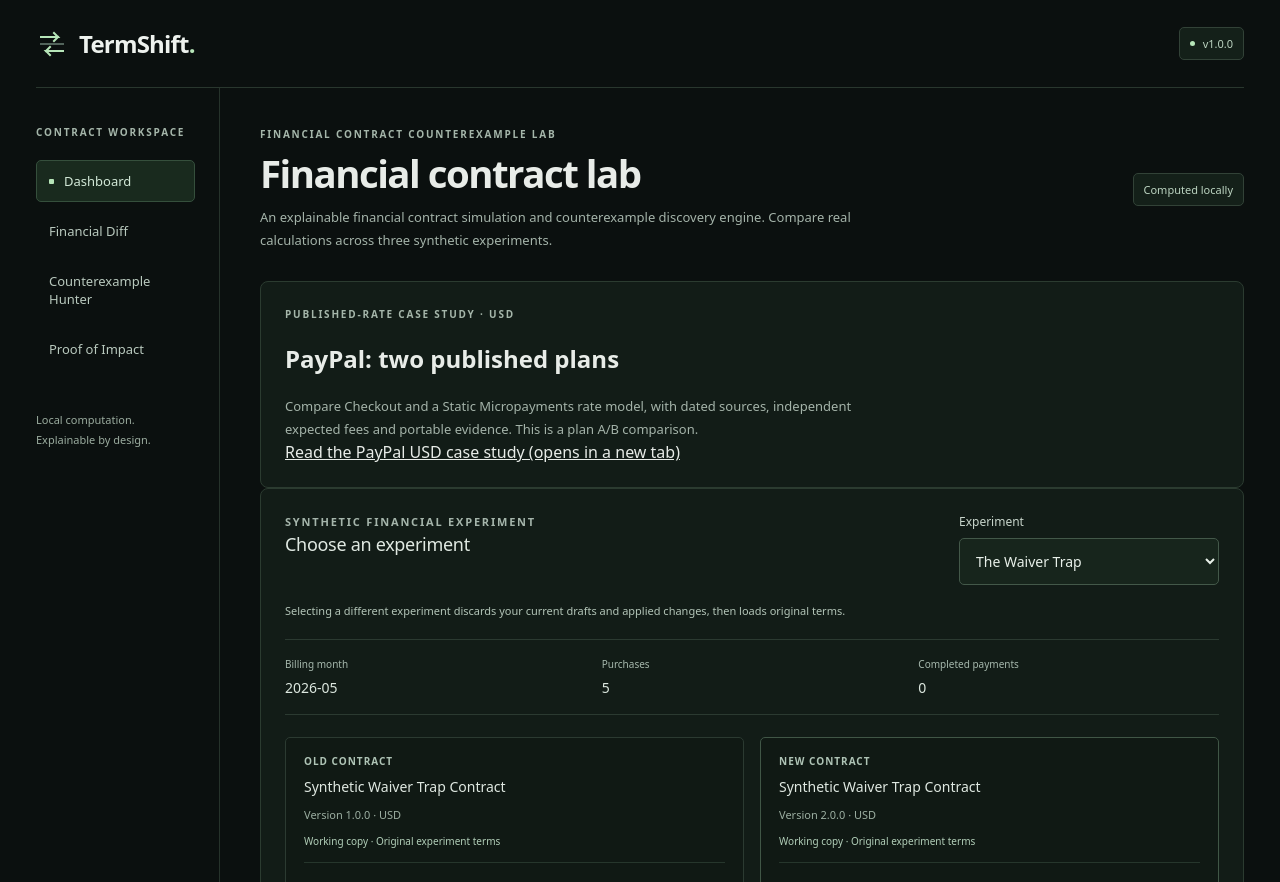
Test: Proof of Impact navigation and explicit generation › remains empty after a real no-witness search
Click the button "Counterexample Hunter": [116, 290] box x1=36 y1=260 x2=195 y2=320
(page scrolled)
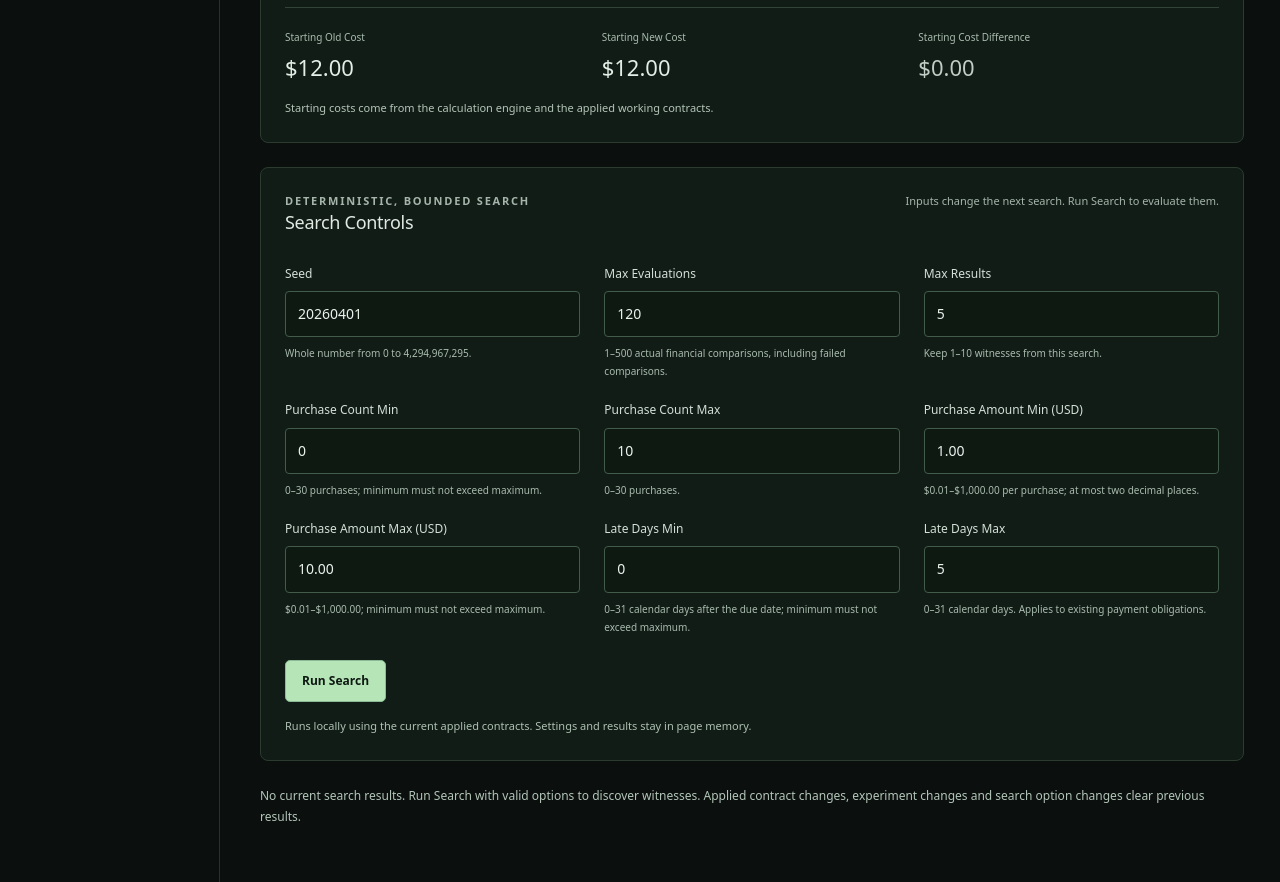
Replace the text in the field labelled "Purchase Count Max" with "4": [752, 451] box x1=604 y1=428 x2=900 y2=474
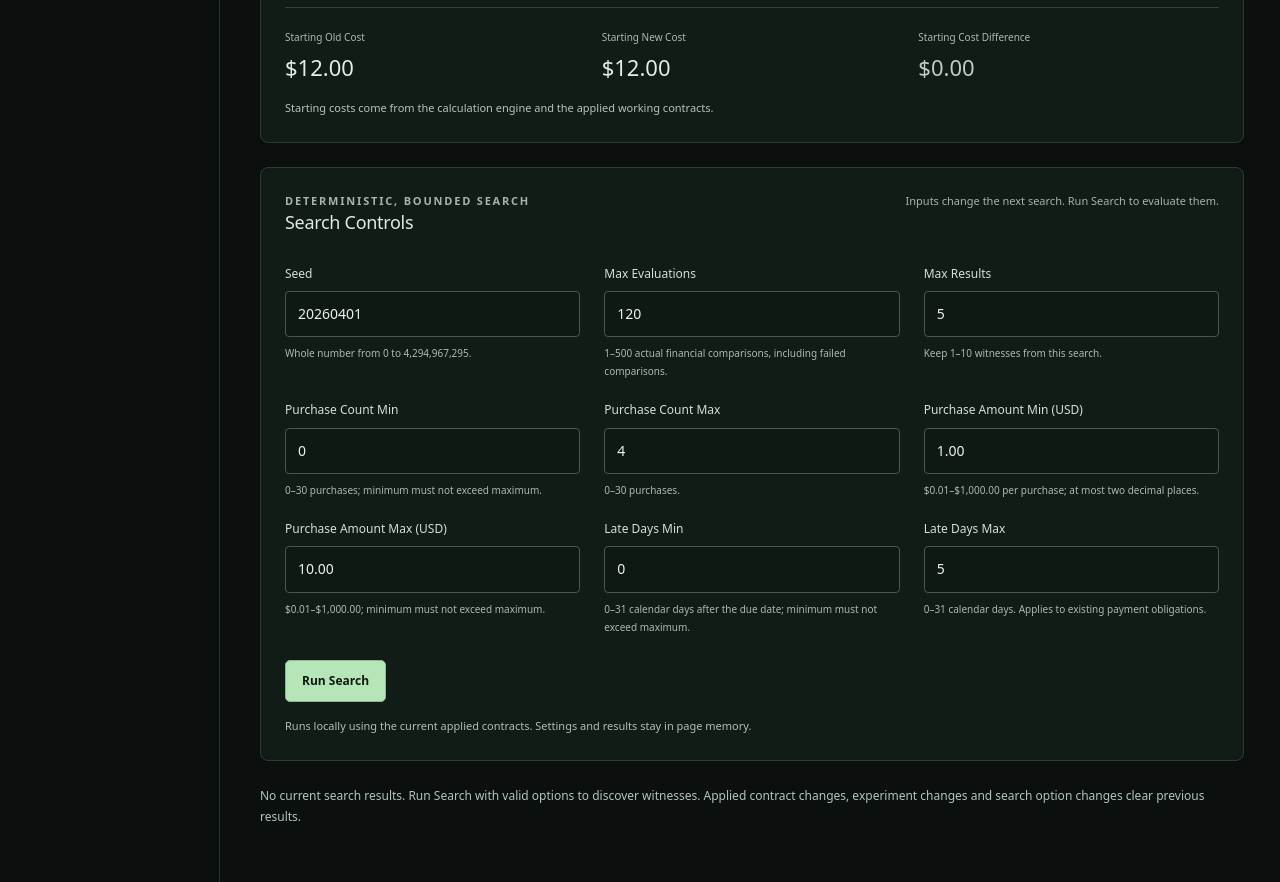
Click the button "Run Search": [336, 681] box x1=285 y1=660 x2=386 y2=702
(page scrolled)
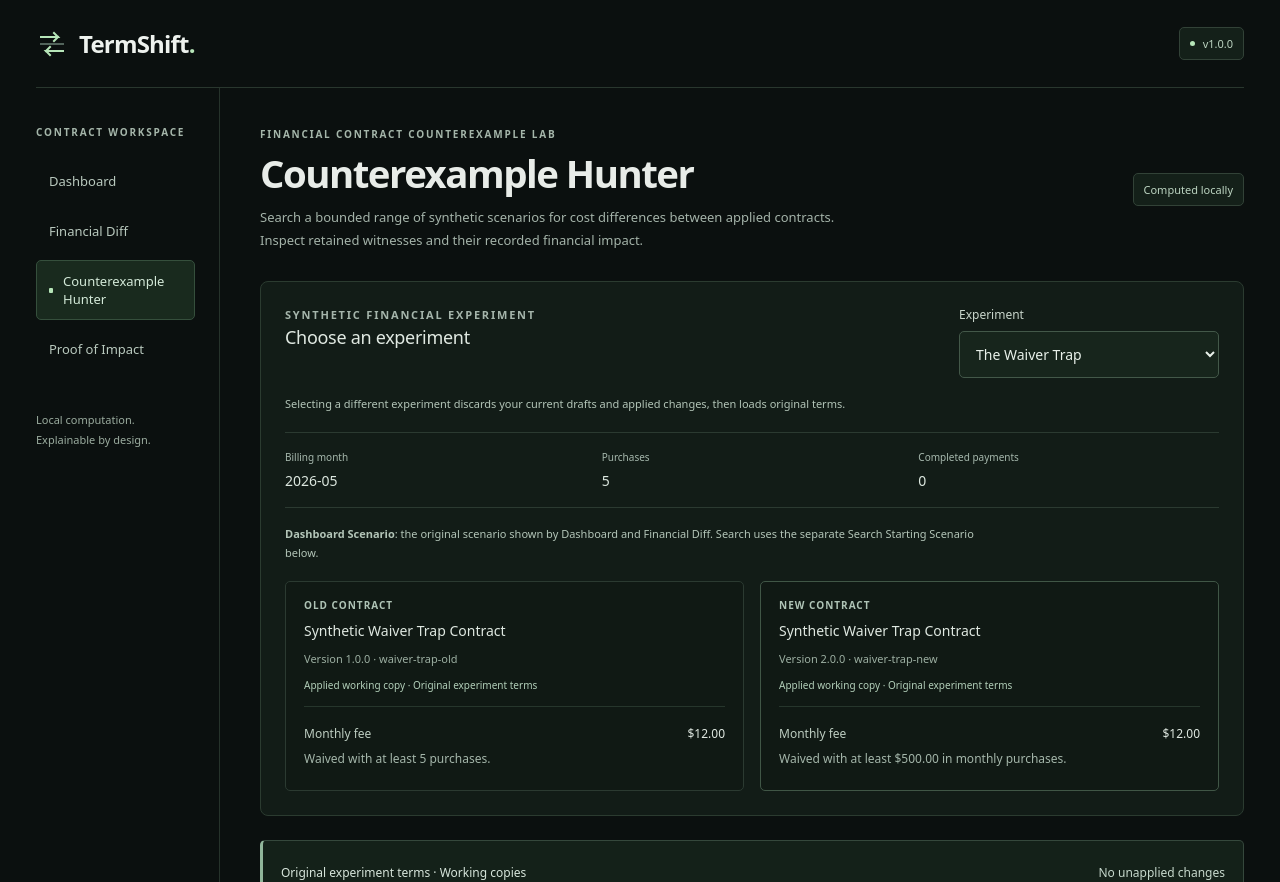
Click the button "Proof of Impact": [116, 349] box x1=36 y1=328 x2=195 y2=370
(page scrolled)
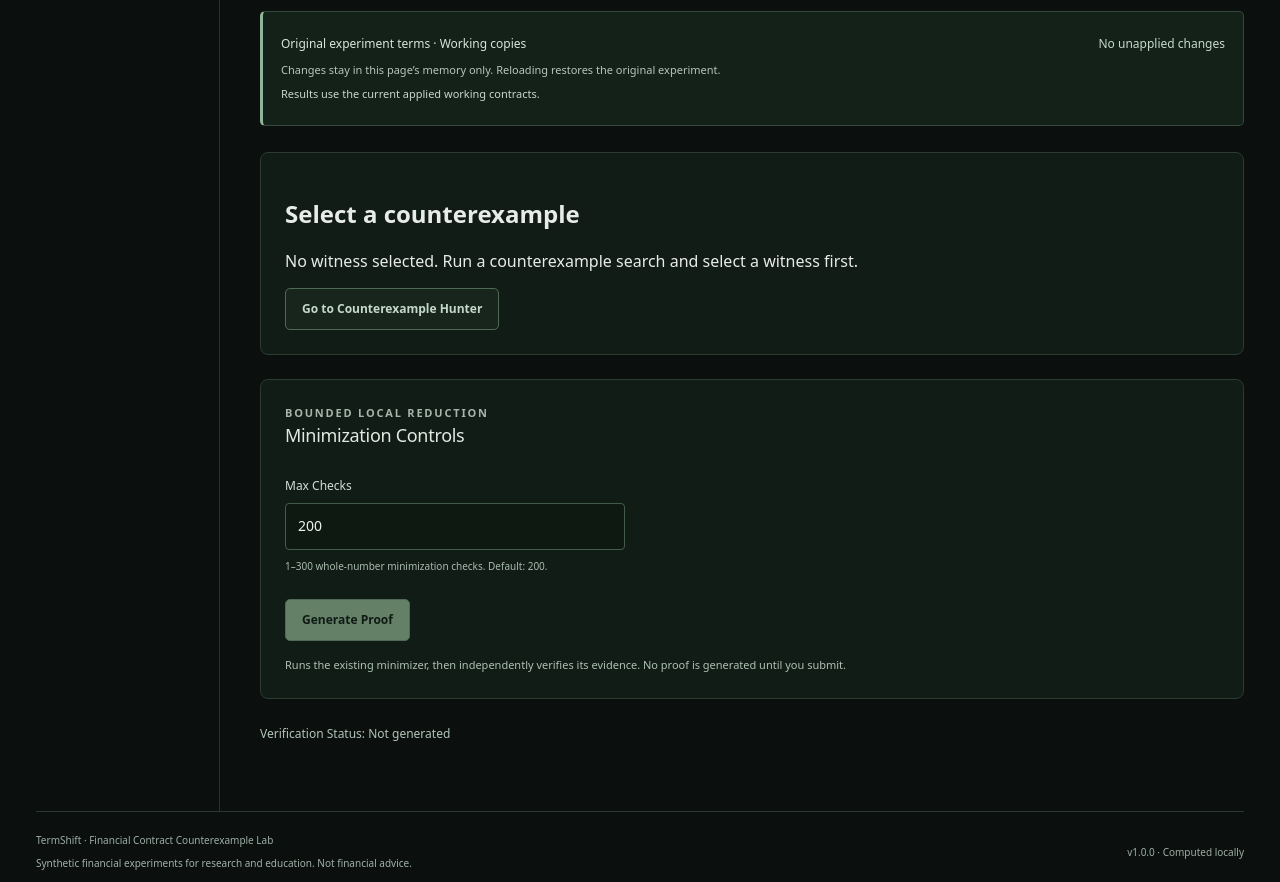
Expected: the button "Generate Proof" is disabled, x1=285 y1=599 x2=410 y2=641
Expected: the text "Verification Status: Not generated" is shown, x1=260 y1=725 x2=450 y2=742
